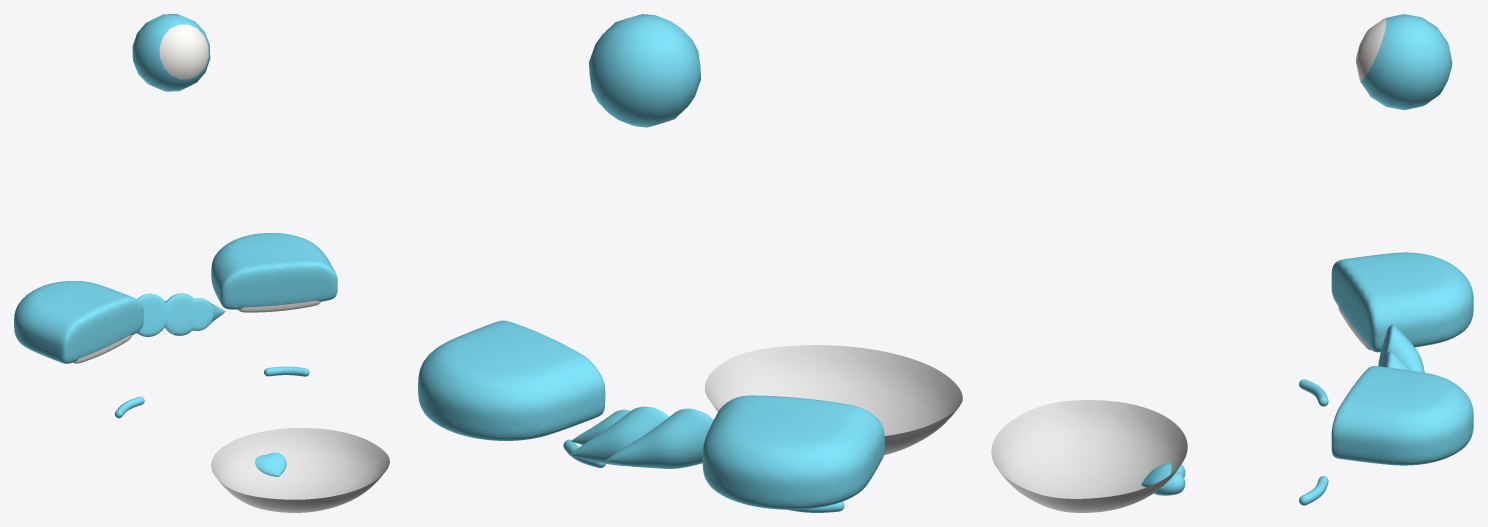
File: CarBodyOther_Bear.fbx
3 views of the same model, side by side, from view 1: azimuth 30°, elevation 25°; view 2: azimuth 150°, elevation 25°; view 3: azimuth 270°, elevation 25° (orthographic). The views are drawn at different scales.
Visible parts, largest first — view 1: 外.002, 嘴.001, 髮, 尾巴-PBR.13, 尾巴-PBR.2, 內.002, 眉毛.005, 鼻.002; view 2: 外.002, 嘴.001, 尾巴-PBR.13, 髮, 眉毛.005; view 3: 外.002, 嘴.001, 尾巴-PBR.13, 髮, 尾巴-PBR.2, 鼻.002, 眉毛.005.
Boxes of the visible parts, x1,y1,x2,y2 form: 外.002: [14, 233, 337, 363]; 嘴.001: [211, 428, 389, 512]; 髮: [137, 293, 225, 336]; 尾巴-PBR.13: [132, 14, 210, 91]; 尾巴-PBR.2: [159, 24, 208, 79]; 內.002: [73, 300, 320, 363]; 眉毛.005: [114, 366, 309, 418]; 鼻.002: [255, 452, 286, 476]; 外.002: [418, 320, 884, 509]; 嘴.001: [704, 345, 962, 455]; 尾巴-PBR.13: [589, 14, 700, 127]; 髮: [569, 406, 713, 468]; 眉毛.005: [563, 439, 844, 512]; 外.002: [1331, 252, 1473, 465]; 嘴.001: [991, 400, 1187, 512]; 尾巴-PBR.13: [1360, 14, 1452, 110]; 髮: [1378, 324, 1424, 372]; 尾巴-PBR.2: [1356, 18, 1386, 81]; 鼻.002: [1141, 462, 1185, 495]; 眉毛.005: [1299, 379, 1328, 505].
Bounding box in the file's own units: 1080 × 1337 × 1226.
